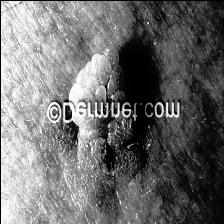Toxin: (70, 46, 142, 184)
